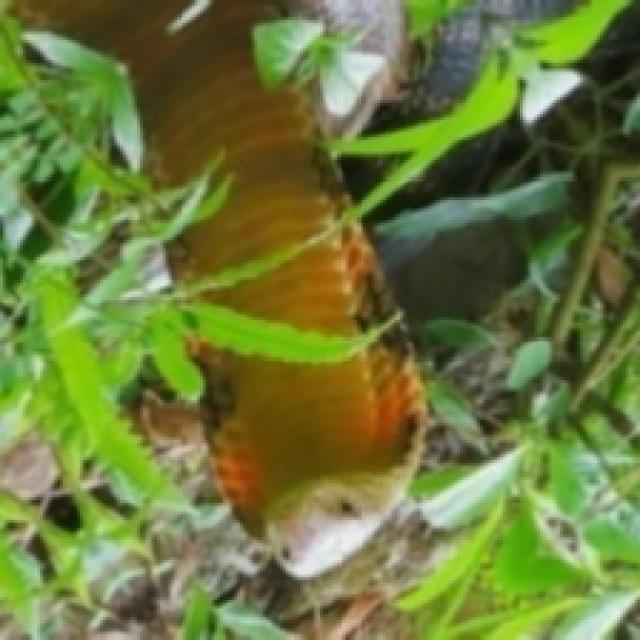king cobra: (23, 0, 391, 337), (197, 326, 423, 574)
